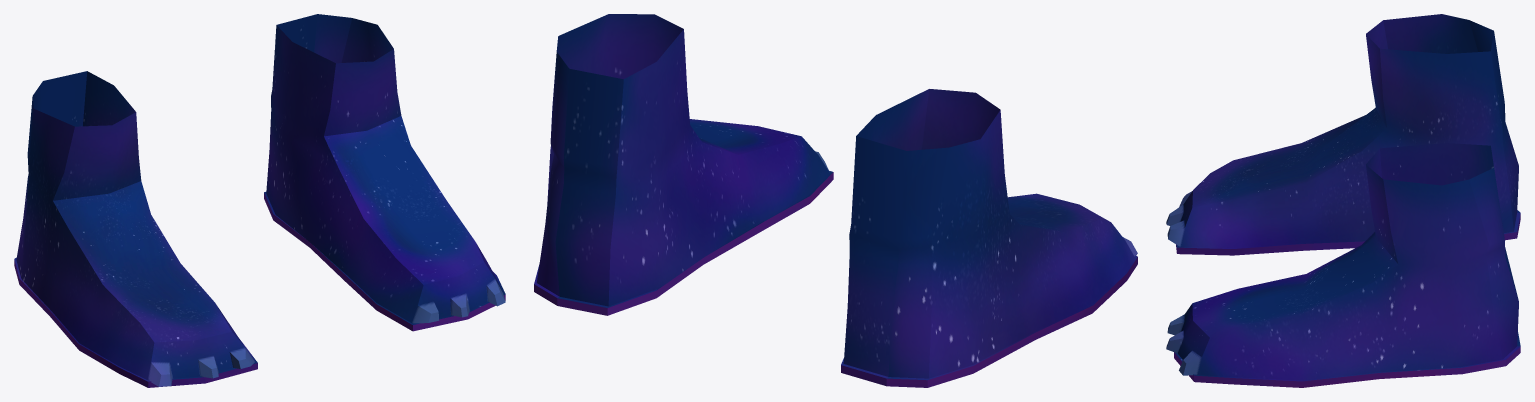
File: dinoShoes.fbx
3 renders of one model, left to right at view 1: azimuth 30°, elevation 25°; view 2: azimuth 150°, elevation 25°; view 3: azimuth 270°, elevation 25°, orthographic. The views are drawn at different scales.
Visible parts, largest first — view 1: DinoShoes; view 2: DinoShoes; view 3: DinoShoes.
Boxes of the visible parts, x1,y1,x2,y2 form: DinoShoes: [14, 14, 505, 387]; DinoShoes: [534, 14, 1137, 387]; DinoShoes: [1166, 14, 1520, 387].
Size of the model in its own units: 37.13 by 17.21 by 28.43.
Materials: 1 (1 with a texture image).
